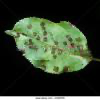Apple Scab Leaf: (11, 12, 99, 77)
